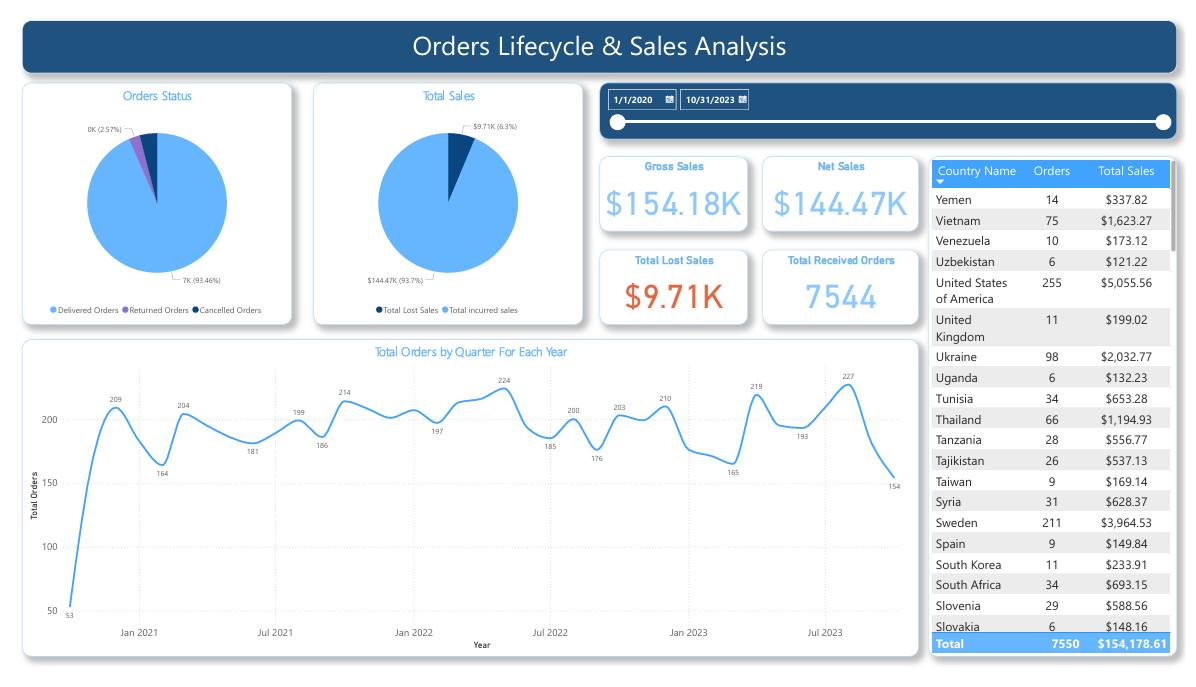

This screenshot's page, from the dashboard's own definition file:
{"tool":"powerbi","page":{"name":"Orders","canvas":[1920,1080],"ordinal":3},"visuals":[{"type":"lineChart","title":"Total Orders by Quarter For Each Year","fields":{"Category":["Dim_Date.Date.Variation.Date Hierarchy.Year","Dim_Date.Date.Variation.Date Hierarchy.Quarter","Dim_Date.Date.Variation.Date Hierarchy.Month","Dim_Date.Date.Variation.Date Hierarchy.Day"],"Y":["Fact_sales.Total Orders"]},"box":[14.3,534.3,1468.6,520],"z":0},{"type":"card","title":"Gross Sales","fields":{"Values":["Fact_sales.Gross Sales"]},"box":[960,234.3,242.9,122.9],"z":1000},{"type":"pieChart","title":"Orders Status","fields":{"Y":["Fact_sales.Net Orders","Fact_sales.Returned Orders","Fact_sales.Cancelled Orders"]},"box":[14.3,112.9,441.4,397.1],"z":2000},{"type":"card","title":"Total Received Orders","fields":{"Values":["Count(Fact_sales.order_id_bk_dd)"]},"box":[1227.1,387.1,255.7,122.9],"z":3000},{"type":"card","title":"Total Lost Sales","fields":{"Values":["Fact_sales.Total Lost Sales"]},"box":[960,387.1,242.9,122.9],"z":4000},{"type":"pieChart","title":"Total Sales","fields":{"Y":["Fact_sales.Total Lost Sales","Fact_sales.Total Sales"]},"box":[491.4,112.9,441.4,397.1],"z":5000},{"type":"card","title":"Net Sales","fields":{"Values":["Fact_sales.Total Sales"]},"box":[1227.1,234.3,255.7,122.9],"z":6000},{"type":"textbox","box":[14.3,11.1,1892.1,87.3],"z":7000},{"type":"tableEx","fields":{"Values":["Dim_Addresses.country_name","Count(Fact_sales.order_id_bk_dd)","Fact_sales.Gross Sales"]},"box":[1498.6,234.3,407.1,820],"z":8000},{"type":"slicer","fields":{"Values":["Dim_Date.Date"]},"box":[960,112.9,945.7,92.9],"z":9000}]}

Visuals, with their boxes in screenshot pixels (x1, y1, x2, y2), scaled from the page's 1920x1080 canvas onto the 1196x687 screenshot:
"Total Orders by Quarter For Each Year" lineChart: {"x1": 9, "y1": 340, "x2": 924, "y2": 671}
"Gross Sales" card: {"x1": 598, "y1": 149, "x2": 749, "y2": 227}
"Orders Status" pieChart: {"x1": 9, "y1": 72, "x2": 284, "y2": 324}
"Total Received Orders" card: {"x1": 764, "y1": 246, "x2": 924, "y2": 324}
"Total Lost Sales" card: {"x1": 598, "y1": 246, "x2": 749, "y2": 324}
"Total Sales" pieChart: {"x1": 306, "y1": 72, "x2": 581, "y2": 324}
"Net Sales" card: {"x1": 764, "y1": 149, "x2": 924, "y2": 227}
textbox: {"x1": 9, "y1": 7, "x2": 1188, "y2": 63}
tableEx - Dim_Addresses.country_name x Count(Fact_sales.order_id_bk_dd): {"x1": 934, "y1": 149, "x2": 1187, "y2": 671}
slicer - Dim_Date.Date: {"x1": 598, "y1": 72, "x2": 1187, "y2": 131}
